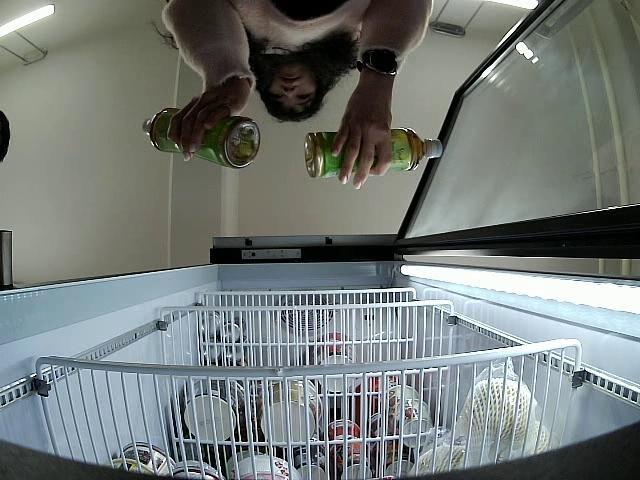19_17cha: (142, 107, 261, 170), (304, 130, 443, 176)
